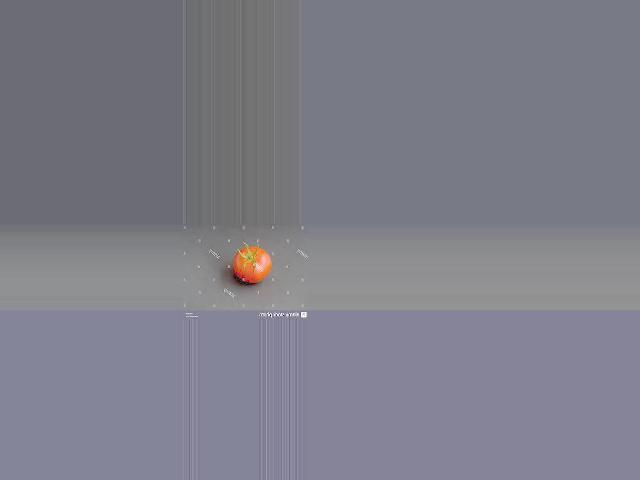tomato: (232, 246, 271, 281)
